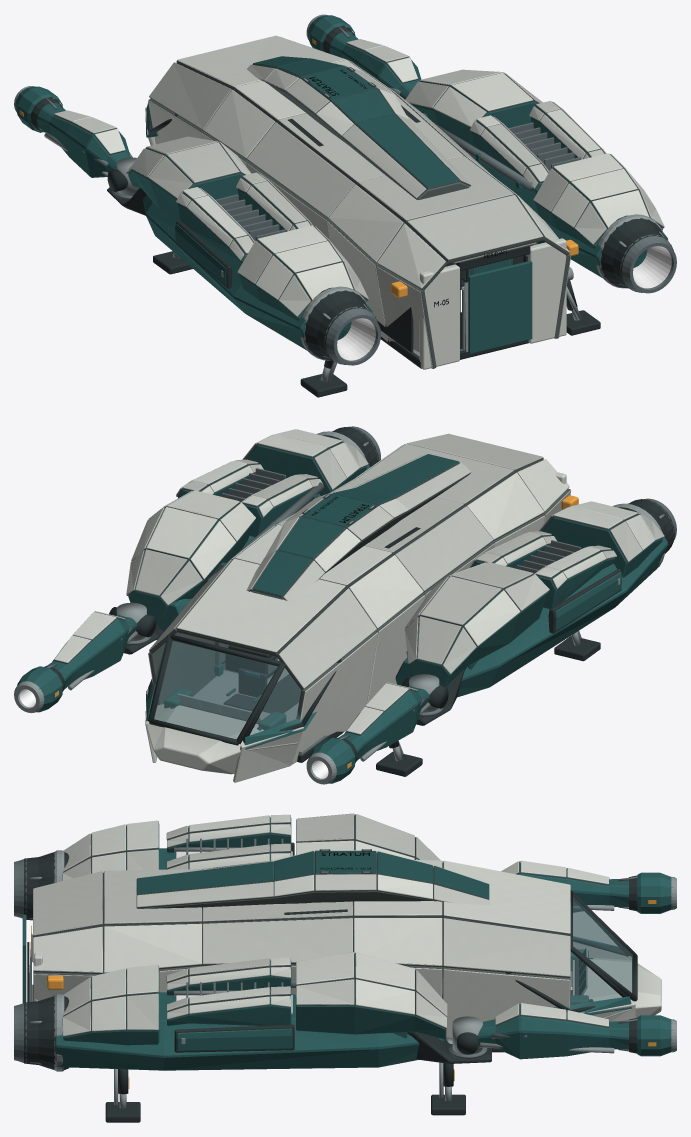
Rendered from stratum.glb.
3 views of the same model, one above another, from view 1: azimuth 30°, elevation 25°; view 2: azimuth 150°, elevation 25°; view 3: azimuth 270°, elevation 25° (orthographic).
Parts seen in each view (by area): view 1: Stratum_Static__ivory_enamel Geometry, Stratum_Static__petrol_service Geometry, Stratum_Static__recessed_panel_joint Geometry, Stratum_Static__graphite_frame Geometry, Stratum_Static__anodized_trim Geometry, Ramp outer hatch armor, MiningPitch_Port__petrol_service, MiningPitch_Starboard__petrol_service, Stratum_Static__bore_interior Geometry, Stratum_Static__brushed_mechanisms Geometry, MiningPitch_Starboard__ivory_enamel, MiningPitch_Port__ivory_enamel (+3 smaller); view 2: Stratum_Static__ivory_enamel Geometry, Stratum_Static__petrol_service Geometry, Stratum_Static__recessed_panel_joint Geometry, Stratum_Static__protective_glazing, Stratum_Static__graphite_frame Geometry, MiningPitch_Port__petrol_service, MiningPitch_Starboard__petrol_service, Stratum_Static__anodized_trim Geometry, Stratum_Static__soft_interior Geometry, Stratum_Static__brushed_mechanisms Geometry, MiningPitch_Port__ivory_enamel, MiningPitch_Starboard__ivory_enamel (+4 smaller); view 3: Stratum_Static__ivory_enamel Geometry, Stratum_Static__petrol_service Geometry, Stratum_Static__recessed_panel_joint Geometry, Stratum_Static__graphite_frame Geometry, MiningPitch_Starboard__petrol_service, Stratum_Static__protective_glazing, MiningPitch_Port__petrol_service, Stratum_Static__anodized_trim Geometry, Stratum_Static__brushed_mechanisms Geometry, MiningPitch_Starboard__ivory_enamel, MiningPitch_Port__ivory_enamel, Gear_Aft_Starboard__graphite_frame (+4 smaller).
Boxes of the visible parts, x1,y1,x2,y2 form: Stratum_Static__ivory_enamel Geometry: (126, 35, 664, 369); Stratum_Static__petrol_service Geometry: (128, 56, 668, 351); Stratum_Static__recessed_panel_joint Geometry: (126, 60, 664, 368); Stratum_Static__graphite_frame Geometry: (107, 67, 673, 368); Stratum_Static__anodized_trim Geometry: (112, 122, 676, 365); Ramp outer hatch armor: (468, 260, 532, 353); MiningPitch_Port__petrol_service: (15, 86, 130, 177); MiningPitch_Starboard__petrol_service: (308, 15, 421, 98); Stratum_Static__bore_interior Geometry: (337, 246, 671, 360); Stratum_Static__brushed_mechanisms Geometry: (221, 67, 664, 360); MiningPitch_Starboard__ivory_enamel: (345, 26, 417, 82); MiningPitch_Port__ivory_enamel: (53, 98, 125, 153); Stratum_Static__ivory_enamel Geometry: (126, 429, 664, 782); Stratum_Static__petrol_service Geometry: (128, 443, 668, 749); Stratum_Static__recessed_panel_joint Geometry: (126, 441, 663, 764); Stratum_Static__protective_glazing: (151, 640, 308, 738); Stratum_Static__graphite_frame Geometry: (124, 427, 674, 762); MiningPitch_Port__petrol_service: (309, 686, 429, 783); MiningPitch_Starboard__petrol_service: (17, 615, 137, 712); Stratum_Static__anodized_trim Geometry: (127, 426, 676, 716); Stratum_Static__soft_interior Geometry: (223, 645, 301, 713); Stratum_Static__brushed_mechanisms Geometry: (193, 431, 664, 755); MiningPitch_Port__ivory_enamel: (347, 682, 417, 733); MiningPitch_Starboard__ivory_enamel: (54, 611, 125, 662); Stratum_Static__ivory_enamel Geometry: (33, 813, 661, 1038); Stratum_Static__petrol_service Geometry: (55, 816, 631, 1070); Stratum_Static__recessed_panel_joint Geometry: (33, 814, 570, 1036); Stratum_Static__graphite_frame Geometry: (24, 842, 637, 1070); MiningPitch_Starboard__petrol_service: (477, 1005, 672, 1059); Stratum_Static__protective_glazing: (557, 897, 632, 1009); MiningPitch_Port__petrol_service: (518, 863, 673, 913); Stratum_Static__anodized_trim Geometry: (14, 838, 487, 1063); Stratum_Static__brushed_mechanisms Geometry: (30, 847, 452, 1071); MiningPitch_Starboard__ivory_enamel: (495, 1003, 608, 1026); MiningPitch_Port__ivory_enamel: (501, 860, 608, 883); Gear_Aft_Starboard__graphite_frame: (105, 1069, 140, 1122).
Size of the model in its own units: 11.83 by 5.51 by 17.12.
Materials: 13 (11 with a texture image).
